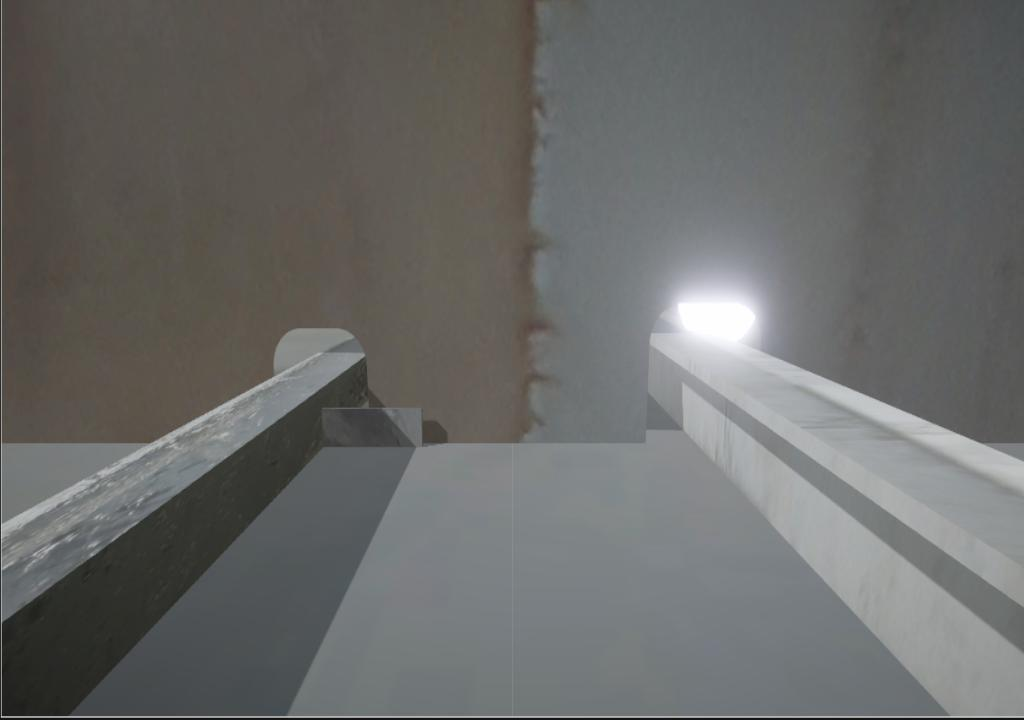fillet_yong_jeop_jang: (423, 434, 653, 449)
plate_CP01: (321, 408, 423, 449)
